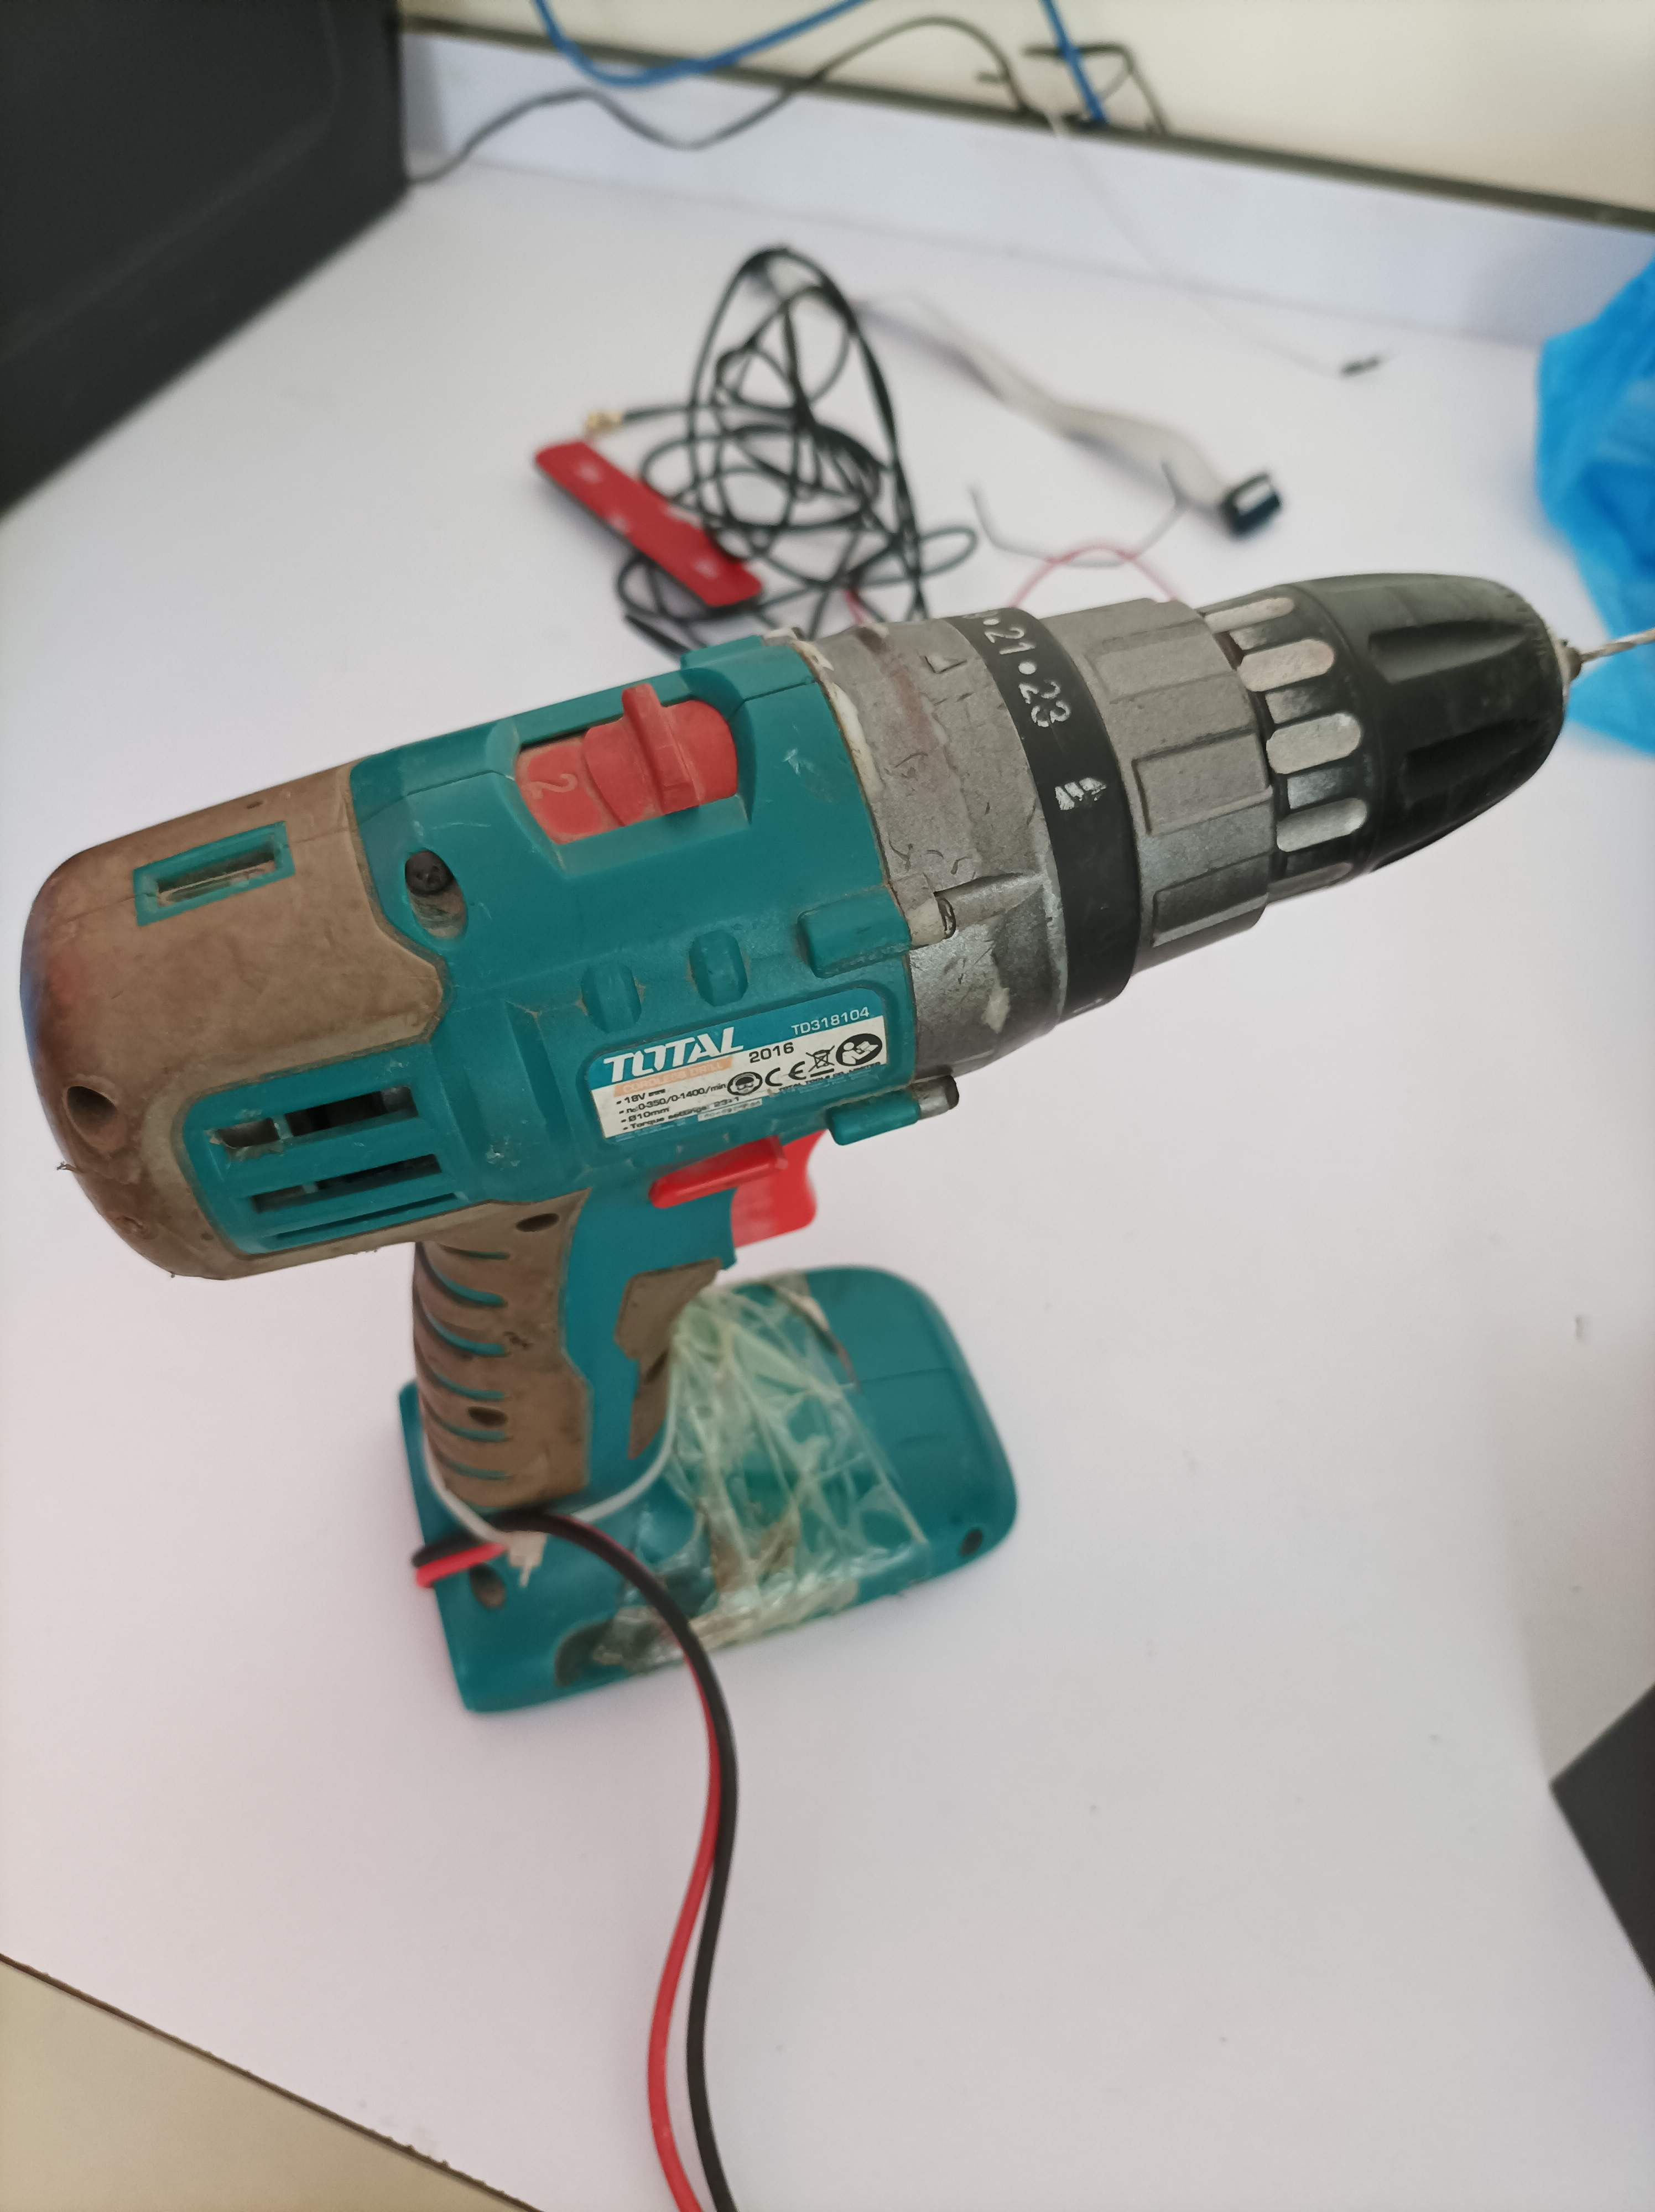driller: (9, 565, 1655, 1729)
